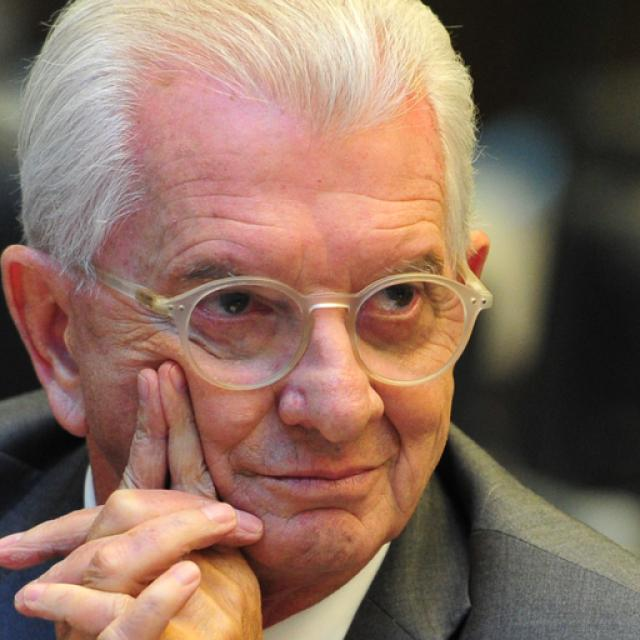Wrinkle: (172, 207, 279, 232), (363, 191, 446, 208), (376, 213, 445, 233), (178, 190, 254, 202)
